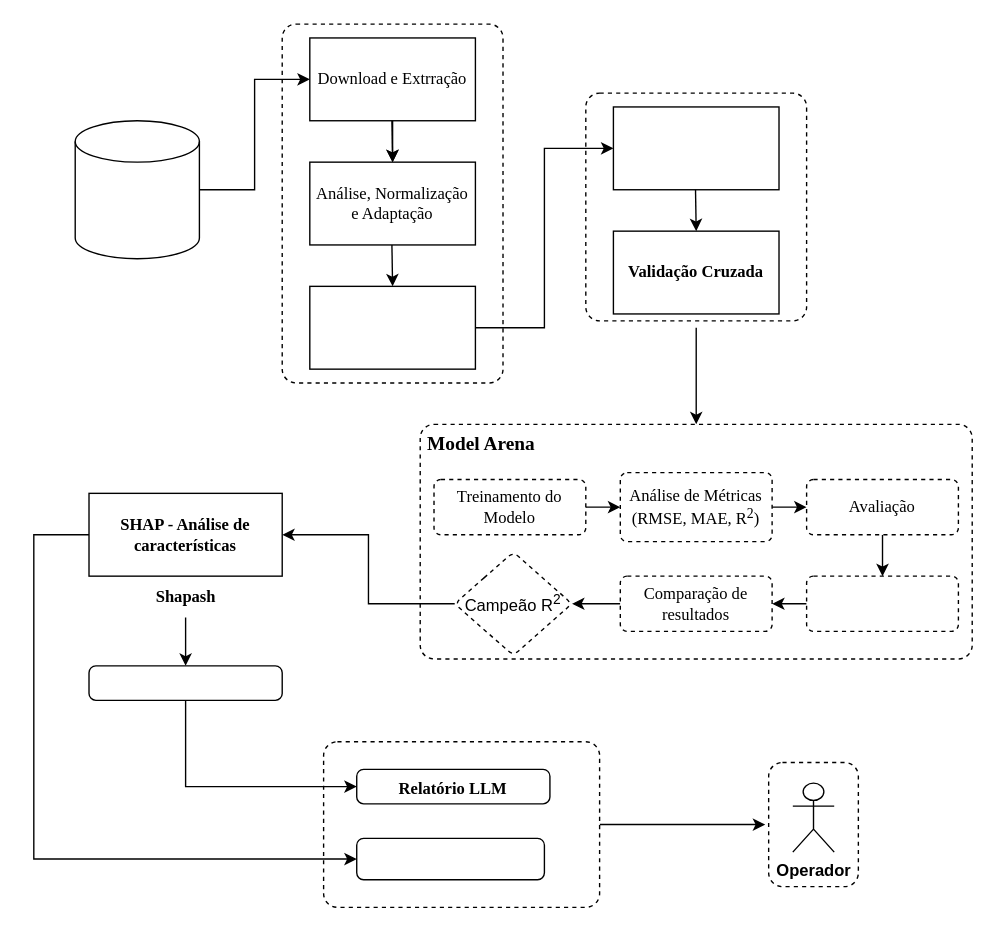
Some shapes in this 996 by 932 pixel diagram are drawn without their labels. Here are the shapes that lost their labels. From the top down, the centre of each, then its label:
At (695,148): "Ajuste de Hiperparâmetros do Modelo".
At (136,189): "Base de Dados".
At (391,327): "Carregamento".
At (881,603): "Rastreamento".
At (185,682): "Assistente LLM".
At (449,858): "Painel de Contribuição".
